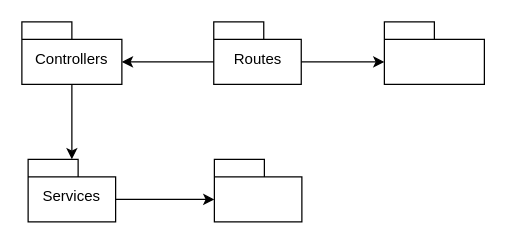
Image size: 506x244. Some labels were removed from this diagram. Each missing label, with the centre of its shape:
"Data" goes at [257,190].
"Middlewares" goes at [433,52].
